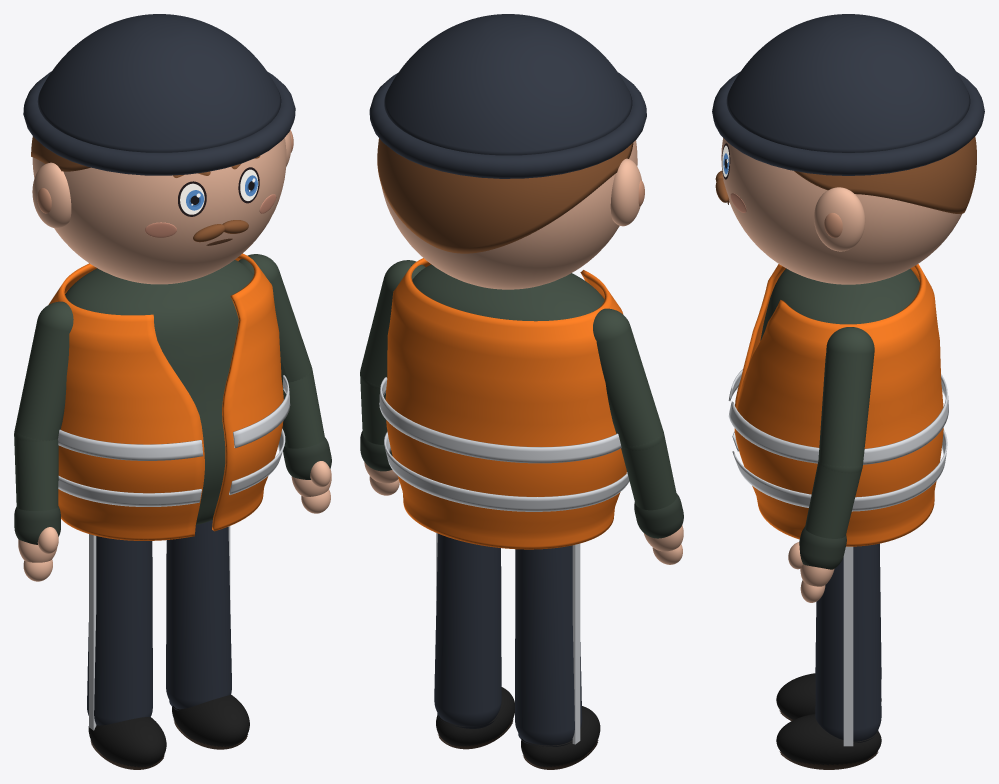
The model's file is vuilnisman.glb.
The picture shows the model from 3 angles, left to right: view 1: azimuth 30°, elevation 25°; view 2: azimuth 150°, elevation 25°; view 3: azimuth 270°, elevation 25°; orthographic projection.
Visible parts, largest first — view 1: vuilnisman_hesje, vuilnisman_muts, vuilnisman_hoofd, vuilnisman_romp, vuilnisman_been_L, vuilnisman_been_R, vuilnisman_muts_rand, vuilnisman_bovenarm_R, vuilnisman_hesje_band1, vuilnisman_onderarm_R, vuilnisman_schoen_R, vuilnisman_schoen_L (+8 smaller); view 2: vuilnisman_hesje, vuilnisman_muts, vuilnisman_haar, vuilnisman_been_L, vuilnisman_been_R, vuilnisman_hoofd, vuilnisman_muts_rand, vuilnisman_romp, vuilnisman_bovenarm_R, vuilnisman_hesje_band1, vuilnisman_hesje_band0, vuilnisman_onderarm_R (+8 smaller); view 3: vuilnisman_hesje, vuilnisman_muts, vuilnisman_hoofd, vuilnisman_been_L, vuilnisman_muts_rand, vuilnisman_bovenarm_L, vuilnisman_romp, vuilnisman_haar, vuilnisman_hesje_band1, vuilnisman_schoen_L, vuilnisman_onderarm_L, vuilnisman_hesje_band0 (+5 smaller).
Boxes of the visible parts, left/top/right/bottom form: vuilnisman_hesje: left=48, top=253, right=283, bottom=540; vuilnisman_muts: left=37, top=14, right=281, bottom=152; vuilnisman_hoofd: left=32, top=137, right=286, bottom=284; vuilnisman_romp: left=65, top=260, right=253, bottom=525; vuilnisman_been_L: left=166, top=520, right=231, bottom=709; vuilnisman_been_R: left=87, top=536, right=152, bottom=725; vuilnisman_muts_rand: left=23, top=71, right=295, bottom=175; vuilnisman_bovenarm_R: left=14, top=301, right=73, bottom=441; vuilnisman_hesje_band1: left=58, top=375, right=290, bottom=460; vuilnisman_onderarm_R: left=14, top=434, right=58, bottom=510; vuilnisman_schoen_R: left=88, top=717, right=166, bottom=767; vuilnisman_schoen_L: left=172, top=694, right=249, bottom=746; vuilnisman_hesje: left=385, top=258, right=626, bottom=549; vuilnisman_muts: left=384, top=14, right=632, bottom=155; vuilnisman_haar: left=377, top=138, right=633, bottom=253; vuilnisman_been_L: left=434, top=533, right=501, bottom=726; vuilnisman_been_R: left=515, top=545, right=582, bottom=745; vuilnisman_hoofd: left=382, top=140, right=637, bottom=289; vuilnisman_muts_rand: left=369, top=72, right=646, bottom=178; vuilnisman_romp: left=412, top=264, right=604, bottom=321; vuilnisman_bovenarm_R: left=593, top=308, right=663, bottom=450; vuilnisman_hesje_band1: left=379, top=377, right=621, bottom=463; vuilnisman_hesje_band0: left=384, top=431, right=629, bottom=511; vuilnisman_onderarm_R: left=621, top=435, right=676, bottom=510; vuilnisman_hesje: left=734, top=264, right=943, bottom=546; vuilnisman_muts: left=726, top=14, right=970, bottom=152; vuilnisman_hoofd: left=721, top=138, right=961, bottom=284; vuilnisman_been_L: left=815, top=544, right=881, bottom=741; vuilnisman_muts_rand: left=712, top=72, right=984, bottom=175; vuilnisman_bovenarm_L: left=818, top=327, right=874, bottom=472; vuilnisman_romp: left=760, top=268, right=919, bottom=340; vuilnisman_haar: left=794, top=136, right=976, bottom=213; vuilnisman_hesje_band1: left=728, top=369, right=948, bottom=464; vuilnisman_schoen_L: left=776, top=714, right=881, bottom=765; vuilnisman_onderarm_L: left=805, top=461, right=861, bottom=538; vuilnisman_hesje_band0: left=732, top=429, right=947, bottom=511.
Bounding box in the file's own units: 0.8489 × 1.87 × 0.644.
